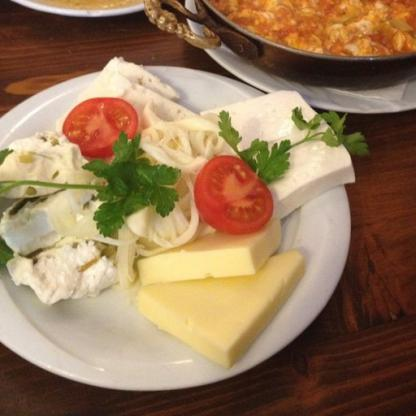mozarella cheese: (135, 250, 309, 368), (199, 92, 355, 217), (144, 225, 280, 279)
